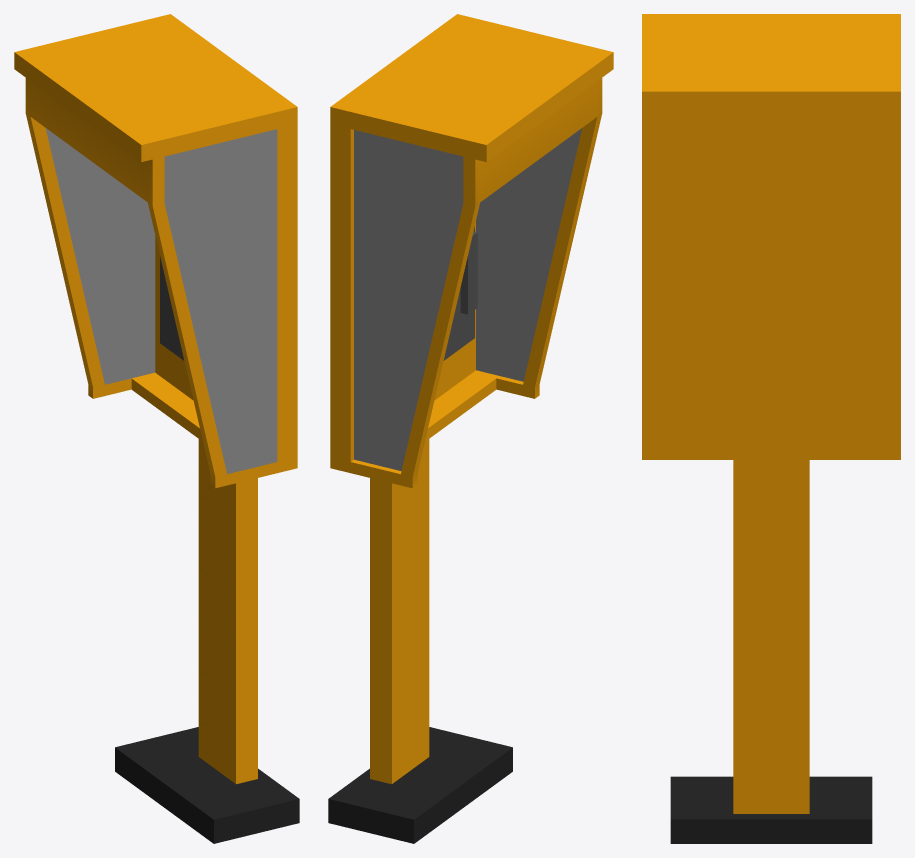
Rendered from telephone_public_low_poly.glb.
The picture shows the model from 3 angles, left to right: view 1: azimuth 30°, elevation 25°; view 2: azimuth 150°, elevation 25°; view 3: azimuth 270°, elevation 25°; orthographic projection.
Parts seen in each view (by area): view 1: SM_SA_Telephone_0; view 2: SM_SA_Telephone_0; view 3: SM_SA_Telephone_0.
Boxes of the visible parts, left/top/right/bottom form: SM_SA_Telephone_0: left=14, top=14, right=299, bottom=843; SM_SA_Telephone_0: left=328, top=14, right=613, bottom=843; SM_SA_Telephone_0: left=642, top=14, right=900, bottom=843.
Bounding box in the file's own units: 0.3921 × 1.59 × 0.5009.
Materials: 1 (1 with a texture image).
